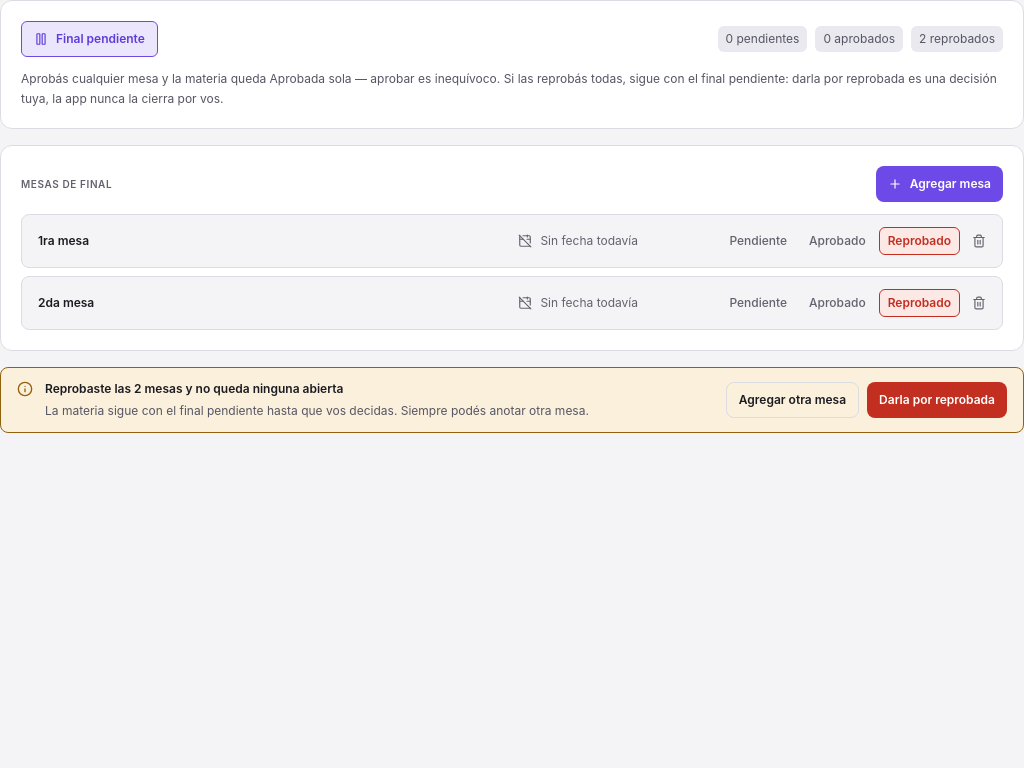
Scenario: FinalesContainer › opens the give-up confirmation instead of recording the outcome directly
Click the button "Darla por reprobada".
click(937, 400)  # box [867, 382, 1007, 418]
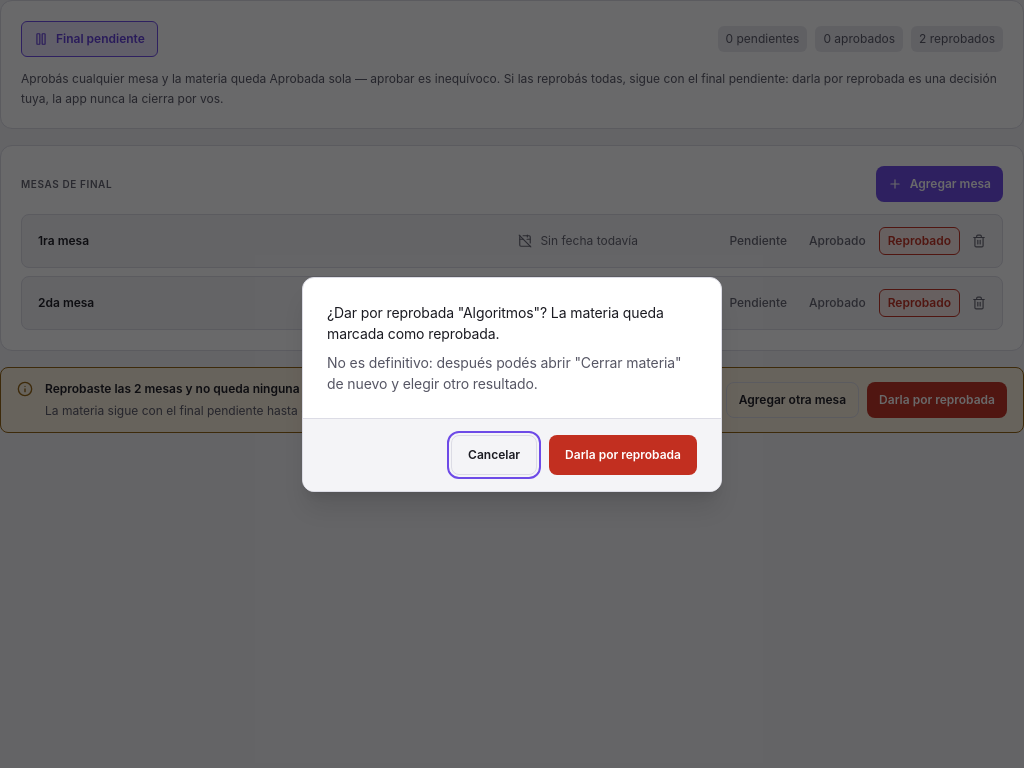
Result: the dialog named "Dar por reprobada Algoritmos" is shown at [302, 276, 722, 492]
